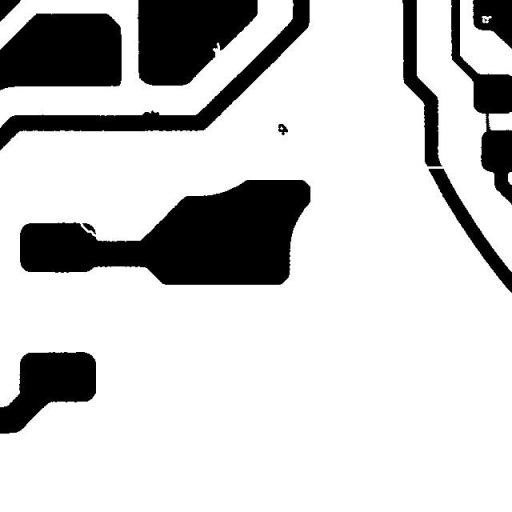copper: (270, 116, 296, 142)
mousebite: (205, 34, 228, 66)
open: (71, 214, 109, 244), (418, 158, 452, 176)
pin-hole: (474, 8, 499, 30)
short: (477, 96, 498, 140)
spur: (134, 102, 166, 125)
